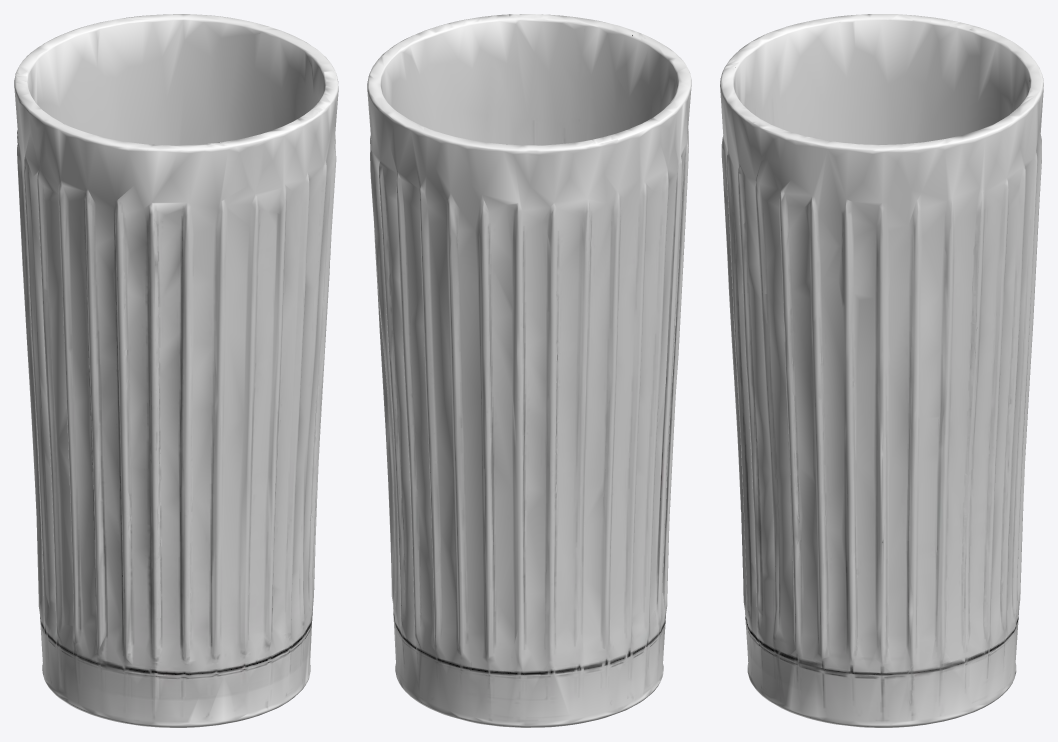
File: cup-iced-takeaway.glb
3 renders of one model, left to right at view 1: azimuth 30°, elevation 25°; view 2: azimuth 150°, elevation 25°; view 3: azimuth 270°, elevation 25°, orthographic.
Visible parts, largest first — view 1: Mesh_0; view 2: Mesh_0; view 3: Mesh_0.
Boxes of the visible parts, x1,y1,x2,y2 form: Mesh_0: (14,14,338,727); Mesh_0: (367,14,691,727); Mesh_0: (720,14,1043,727).
Bounding box in the file's own units: 0.9469 × 1.91 × 0.9472.
Materials: 1 (1 with a texture image).
